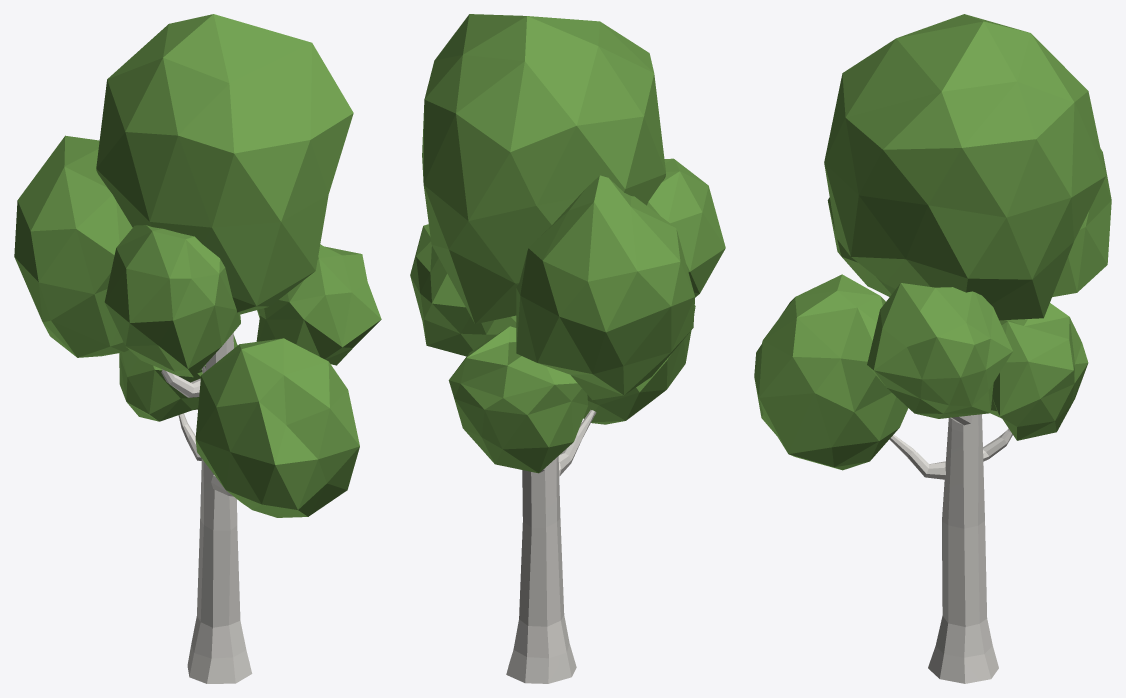
The model's file is BirchTree.fbx.
The picture shows the model from 3 angles, left to right: view 1: azimuth 30°, elevation 25°; view 2: azimuth 150°, elevation 25°; view 3: azimuth 270°, elevation 25°; orthographic projection.
Visible parts, largest first — view 1: BirchTree; view 2: BirchTree; view 3: BirchTree.
Boxes of the visible parts, bbox=[...] form: BirchTree: bbox=[14, 14, 381, 683]; BirchTree: bbox=[410, 14, 725, 683]; BirchTree: bbox=[754, 14, 1111, 683].
Size of the model in its own units: 655 by 1364 by 680.
